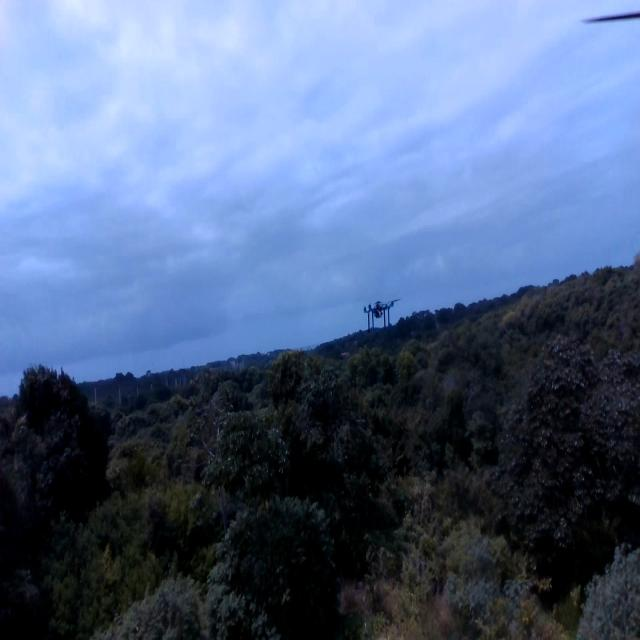-uav-: (361, 290, 398, 334)
